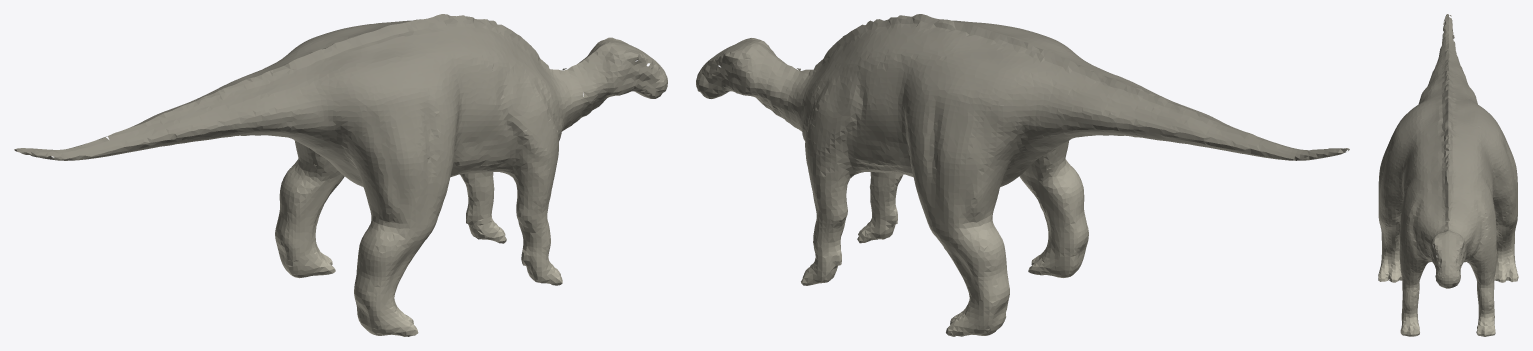
The model's file is brachylophosaurus.glb.
3 renders of one model, left to right at view 1: azimuth 30°, elevation 25°; view 2: azimuth 150°, elevation 25°; view 3: azimuth 270°, elevation 25°, orthographic. The views are drawn at different scales.
Parts seen in each view (by area): view 1: world; view 2: world; view 3: world.
Boxes of the visible parts, x1,y1,x2,y2 form: world: (14,14,667,336); world: (696,14,1349,336); world: (1378,14,1518,336).
Bounding box in the file's own units: 10 × 3.95 × 2.82.
